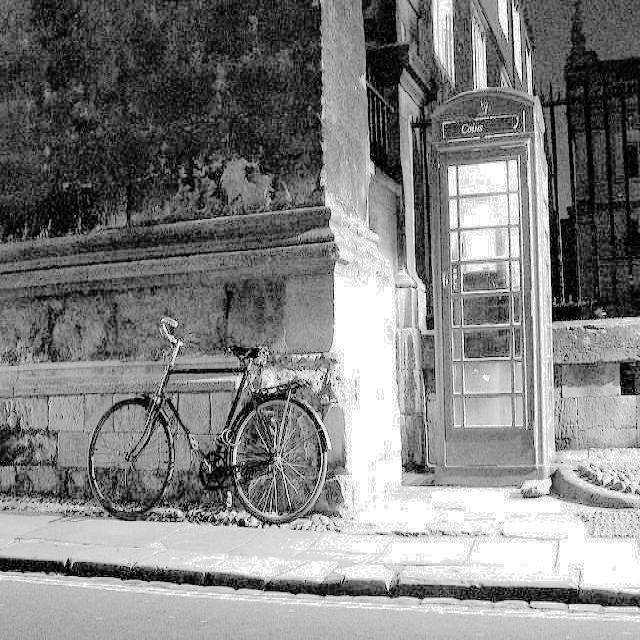Bicycle: (85, 310, 332, 531)
